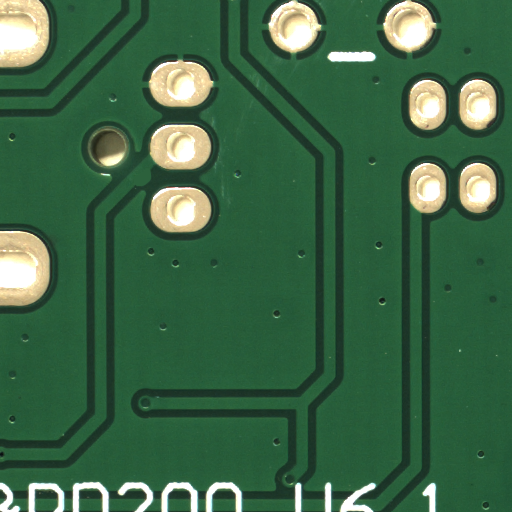Spur: (143, 179, 158, 194)
